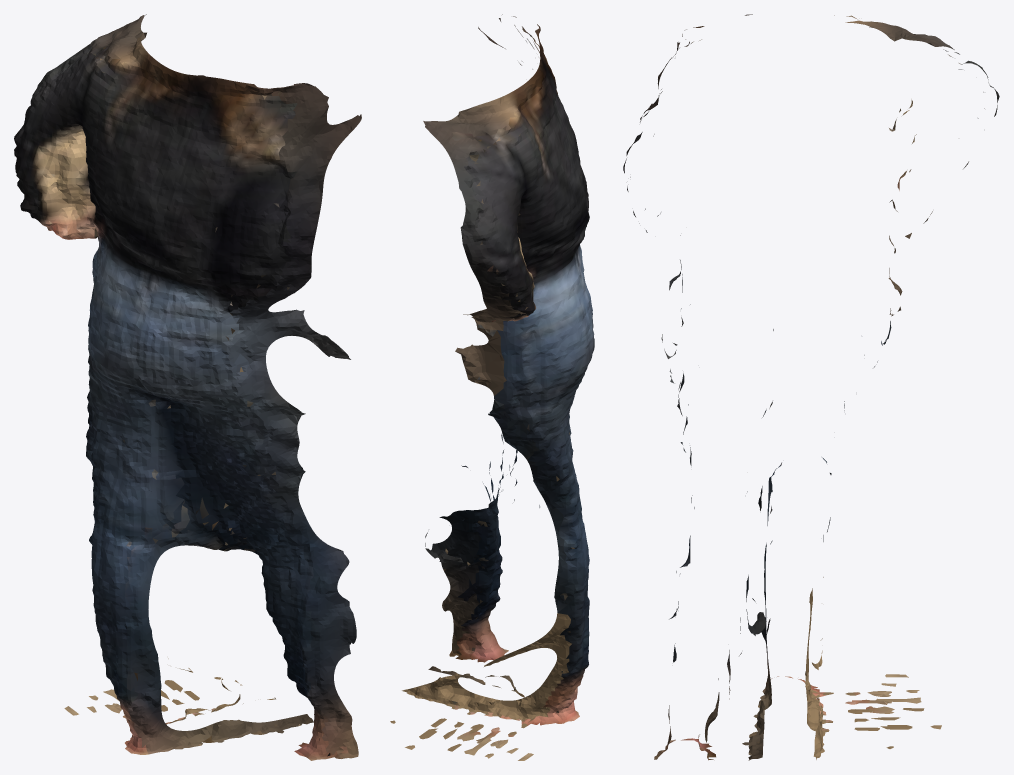
The picture shows the model from 3 angles, left to right: view 1: azimuth 30°, elevation 25°; view 2: azimuth 150°, elevation 25°; view 3: azimuth 270°, elevation 25°; orthographic projection. The views are drawn at different scales.
Bounding box in the file's own units: 0.389 × 1.26 × 0.6206.
1 material, 1 textured.
